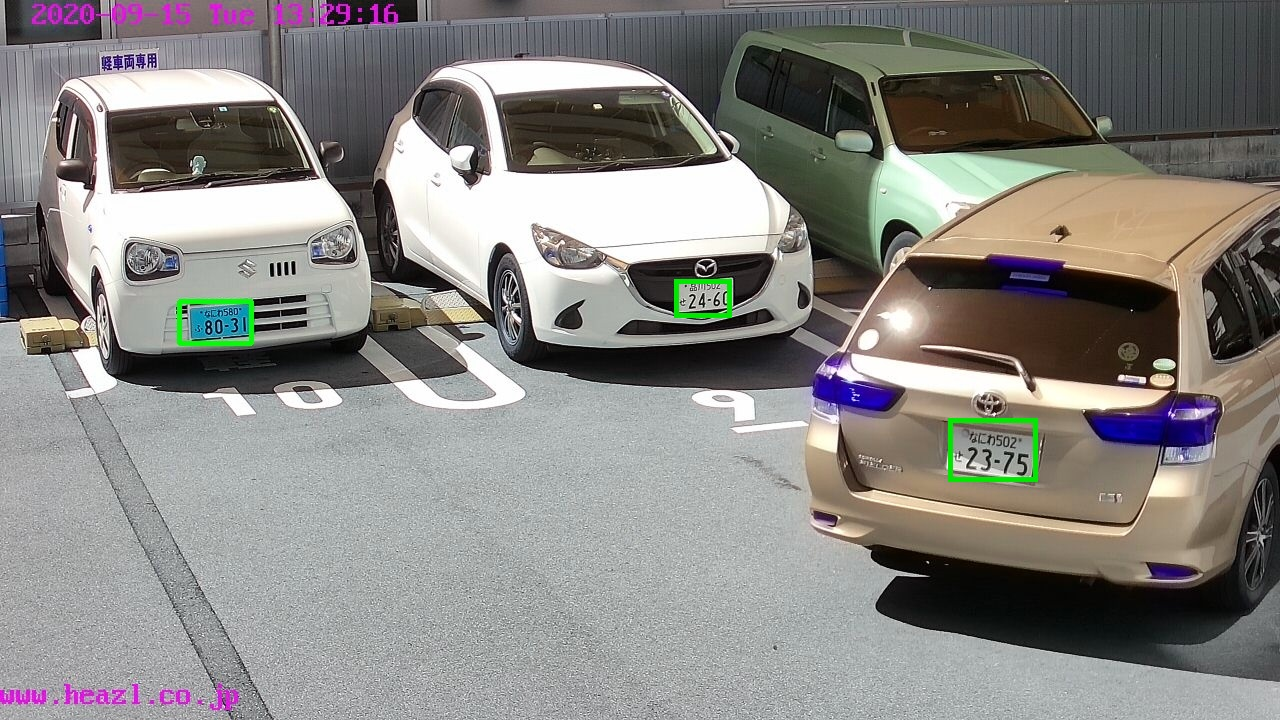number_plate: (949, 422, 1035, 483), (187, 303, 256, 339), (676, 279, 736, 311)
